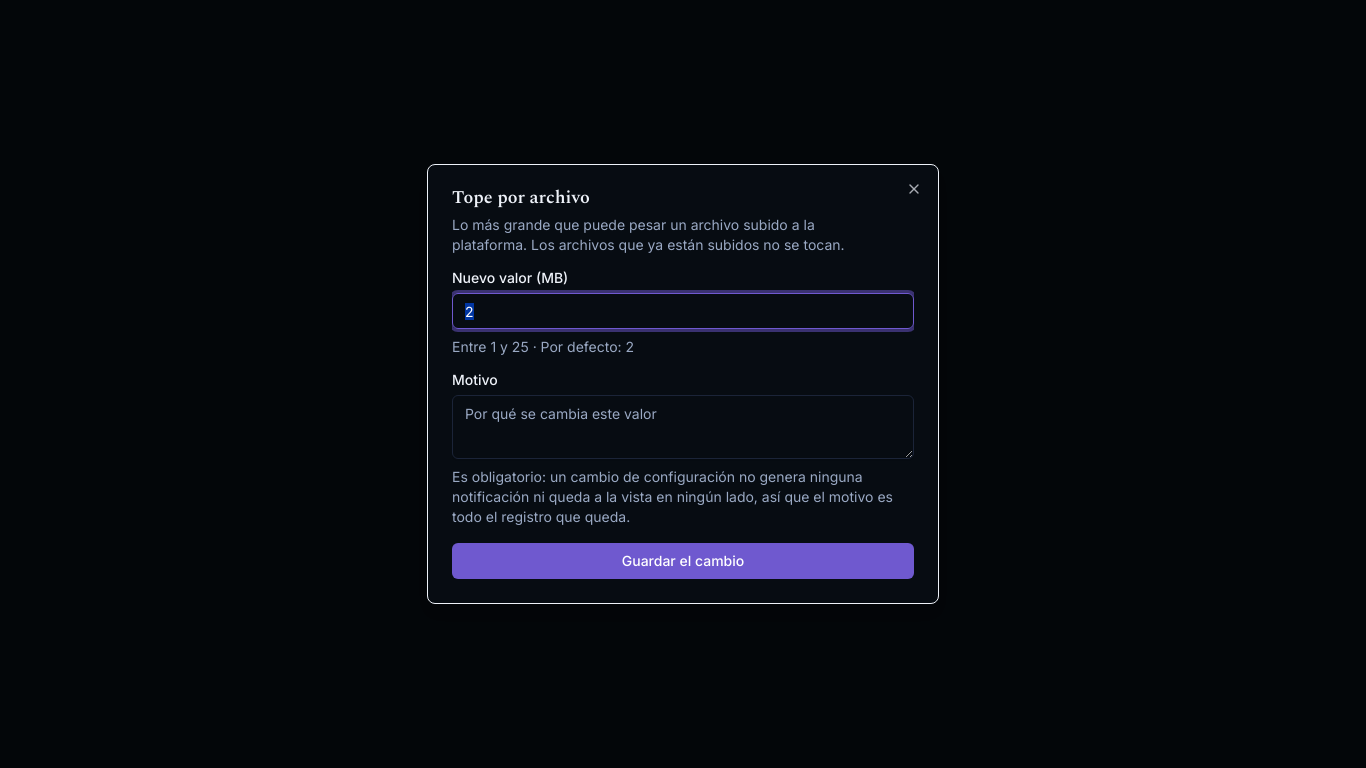
Scenario: SettingValueDialog › refuses anything that is not a whole number
Replace the text in the field labelled "Nuevo valor (MB)" with "2,5": (683, 311) [452,293,914,329]
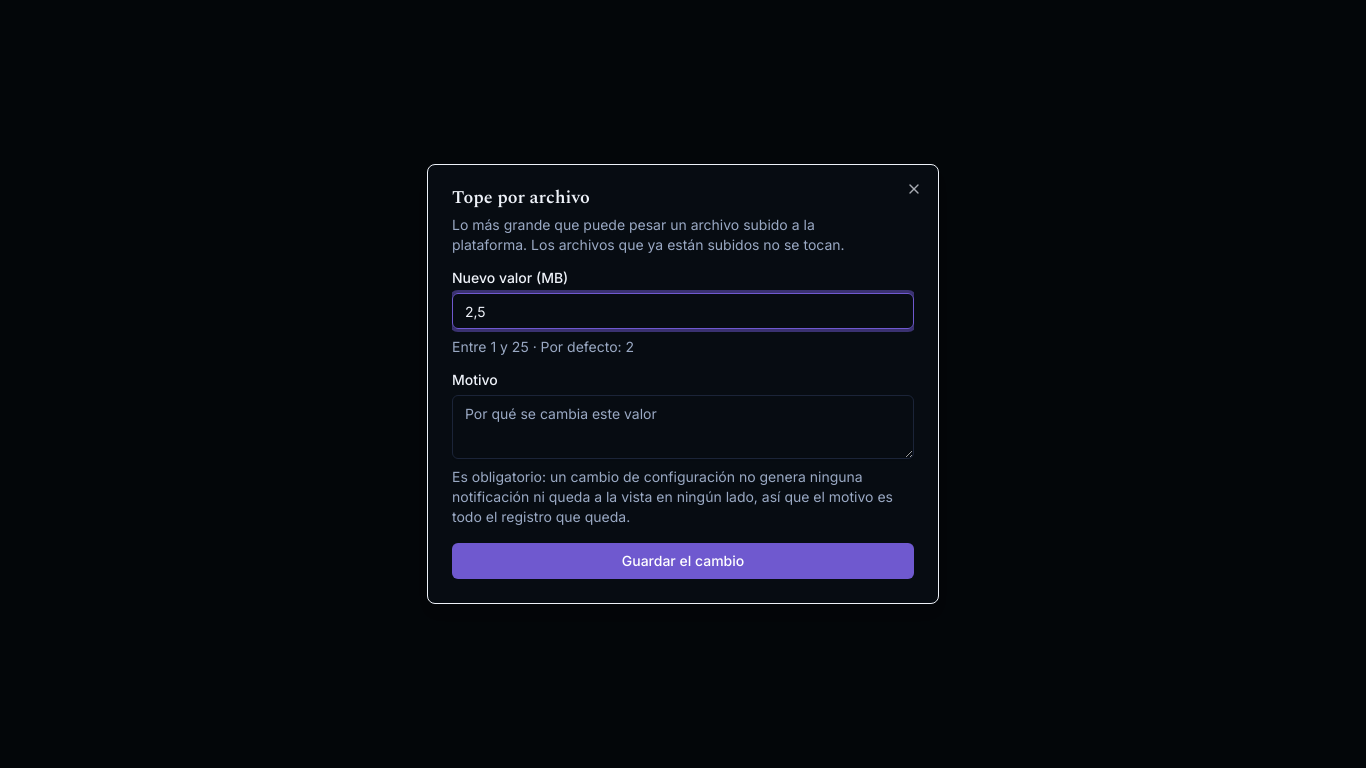
In the text box labelled "Motivo": (683, 427) [452,395,914,459], type "porque sí"
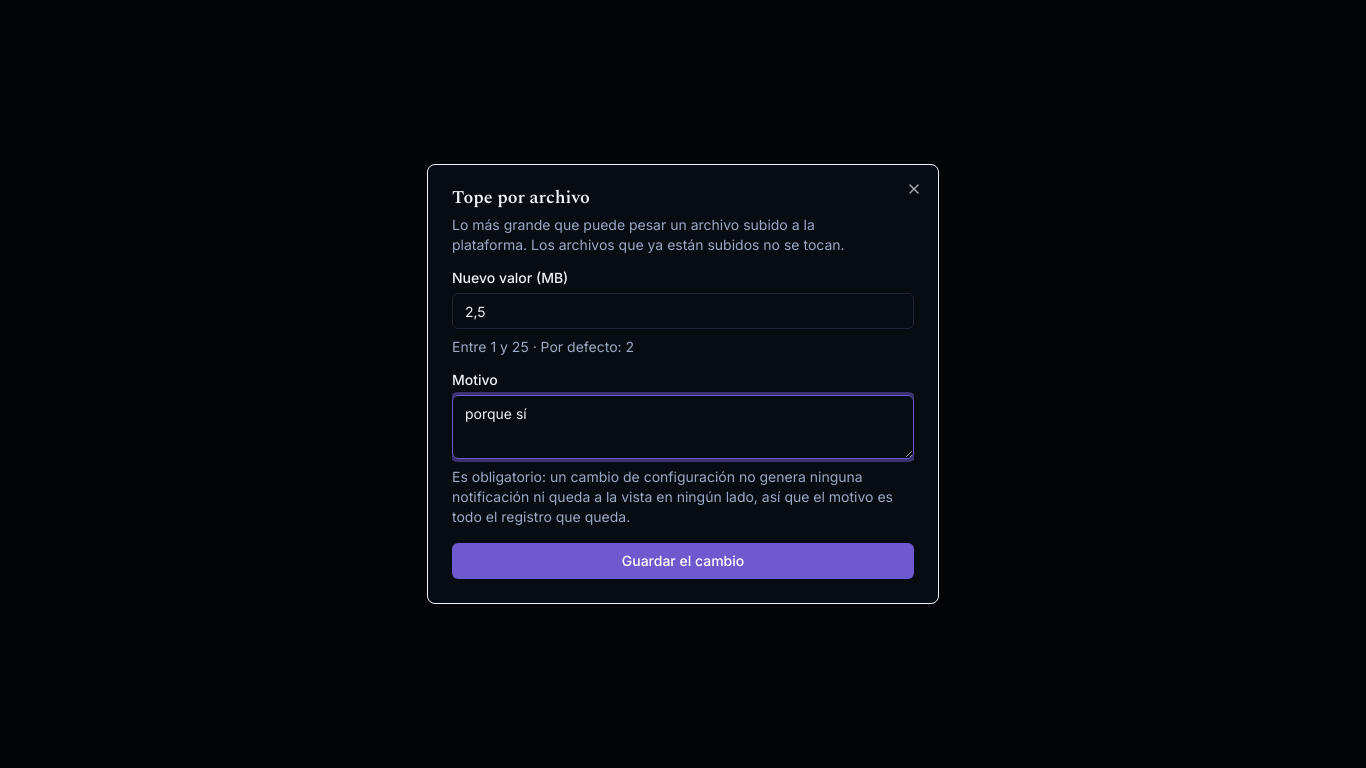
Click the button "Guardar el cambio": (683, 561) [452,543,914,579]
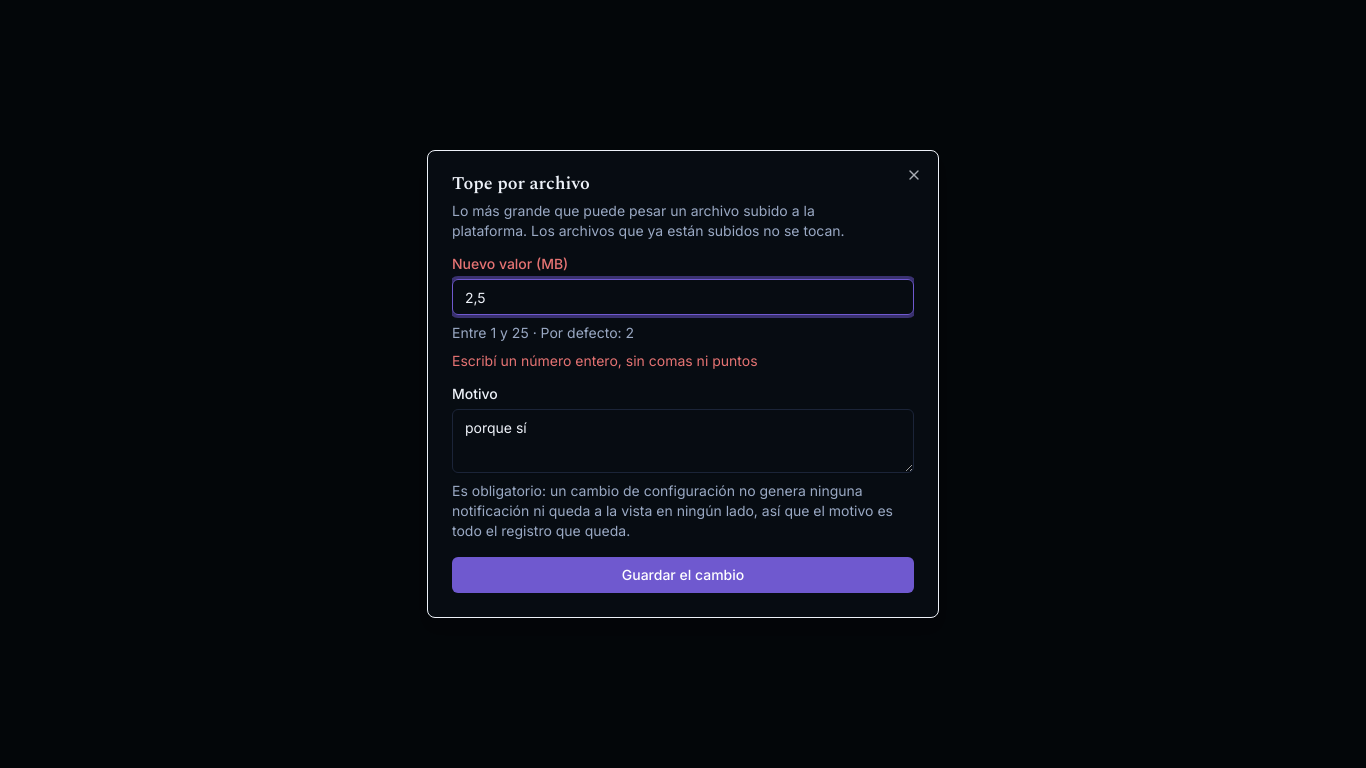
expect the text "Escribí un número entero, sin comas ni puntos" is shown: met, box [452,352,758,369]
